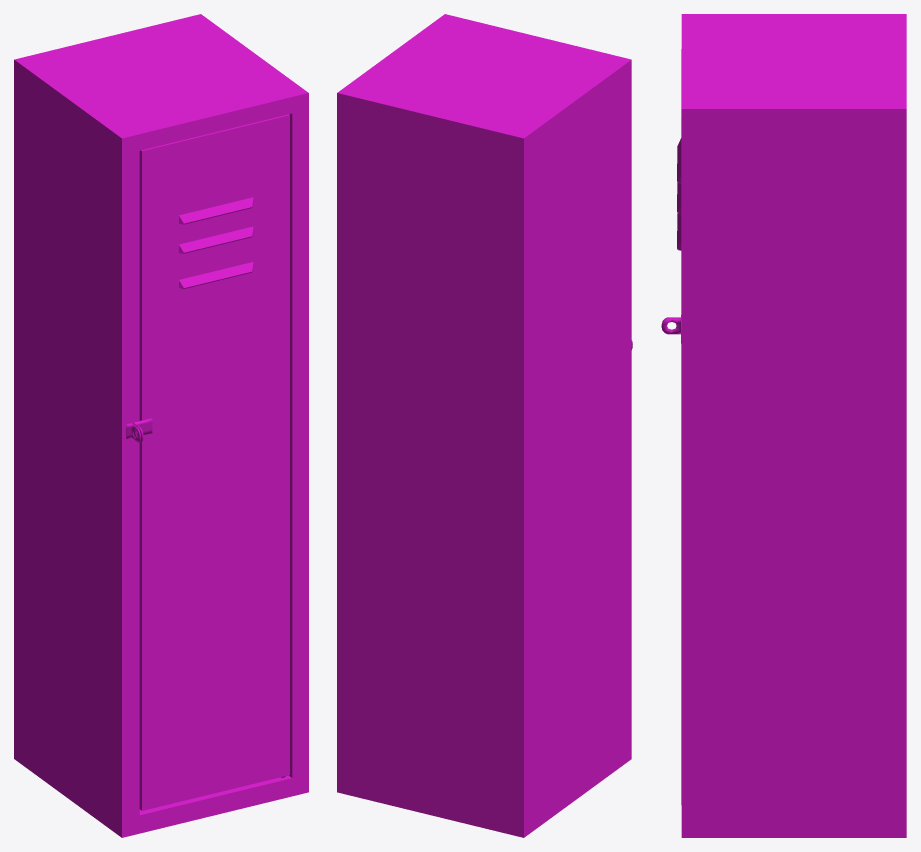
File: spind_20112019_lowpoly.fbx
3 views of the same model, side by side, from view 1: azimuth 30°, elevation 25°; view 2: azimuth 150°, elevation 25°; view 3: azimuth 270°, elevation 25° (orthographic). The views are drawn at different scales.
Visible parts, largest first — view 1: Schrank; view 2: Schrank; view 3: Schrank.
Part boxes in pixels (left/top/right/bottom): Schrank: left=14, top=14, right=308, bottom=837; Schrank: left=337, top=14, right=632, bottom=837; Schrank: left=661, top=14, right=906, bottom=837.
Bounding box in the file's own units: 2.15 × 7.69 × 2.34.
